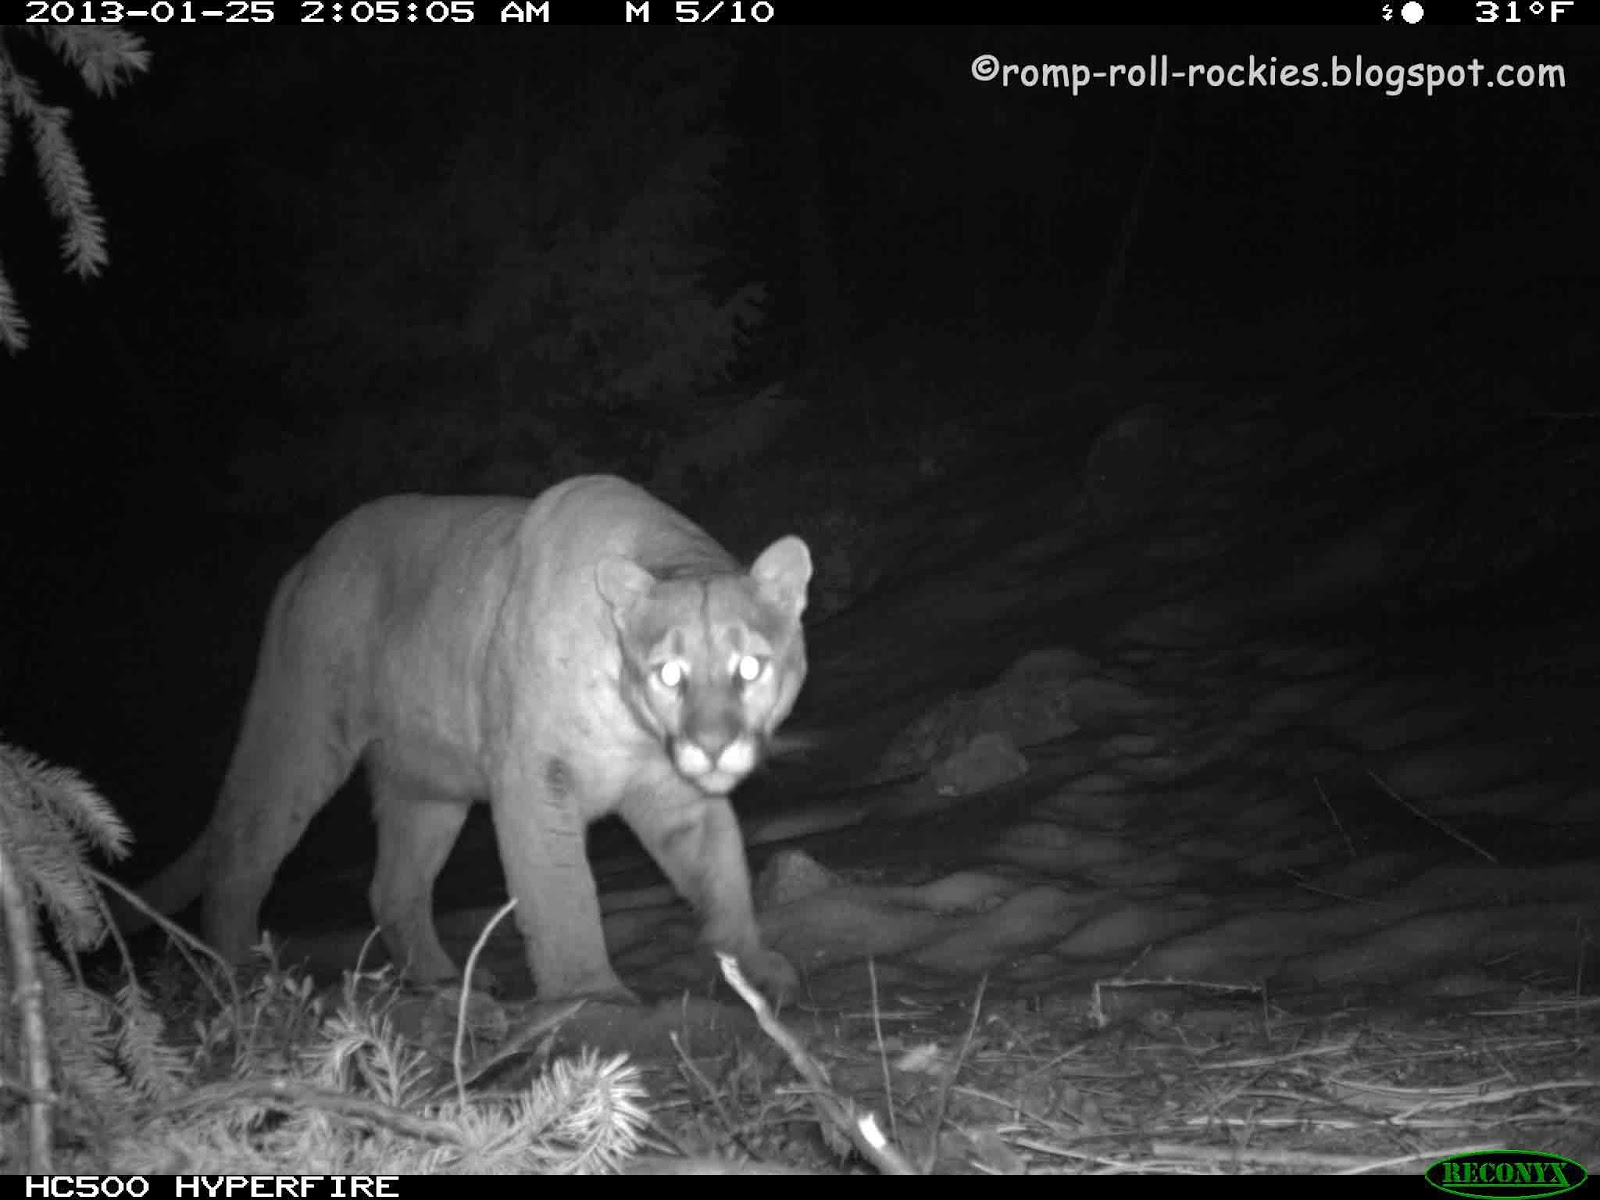mountain lion: (64, 413, 872, 1035)
